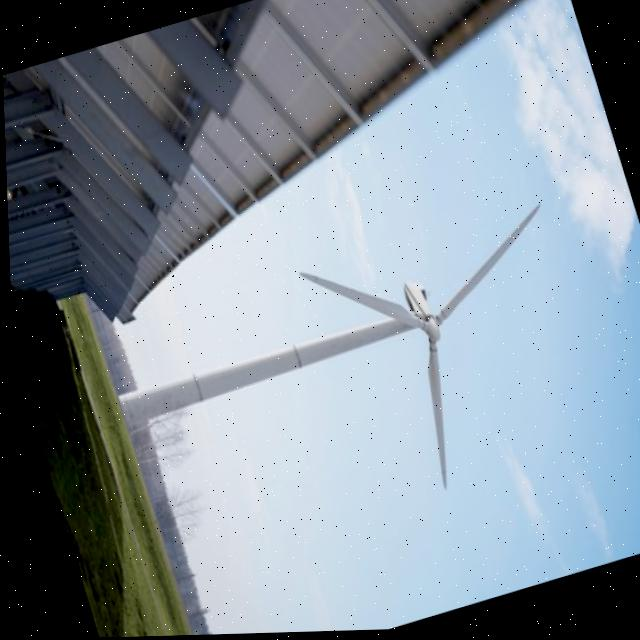solid-blade: (432, 209, 537, 328), (296, 275, 421, 331), (424, 340, 441, 491)
wind-turbine: (116, 209, 537, 489)
